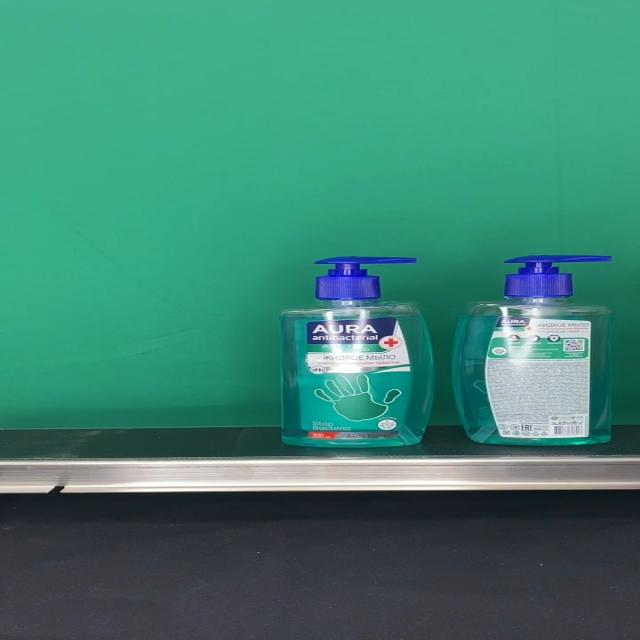Bottle: (452, 255, 614, 446), (280, 257, 435, 447)
Cap: (504, 255, 613, 298), (312, 257, 417, 300)
